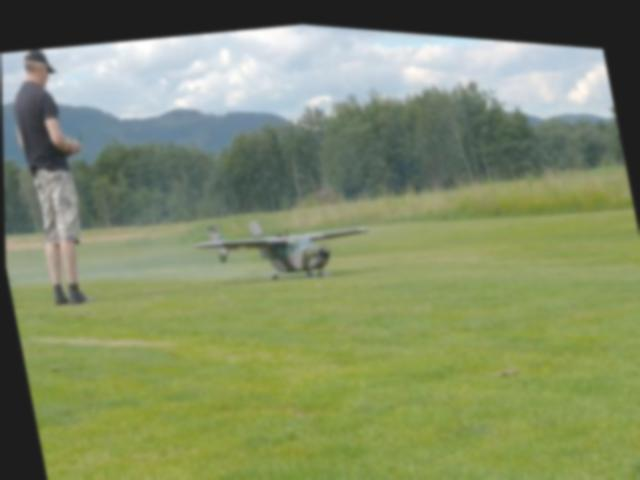uav: (185, 188, 379, 295)
